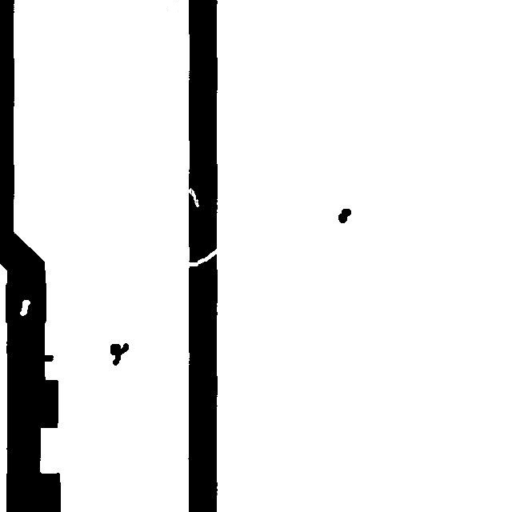copper: (102, 335, 136, 373), (330, 201, 358, 230)
mousebite: (178, 180, 206, 214)
open: (176, 240, 227, 274)
pin-hole: (12, 292, 38, 323)
spur: (34, 347, 61, 369)
